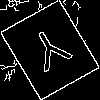Y: (25, 24, 79, 81)
